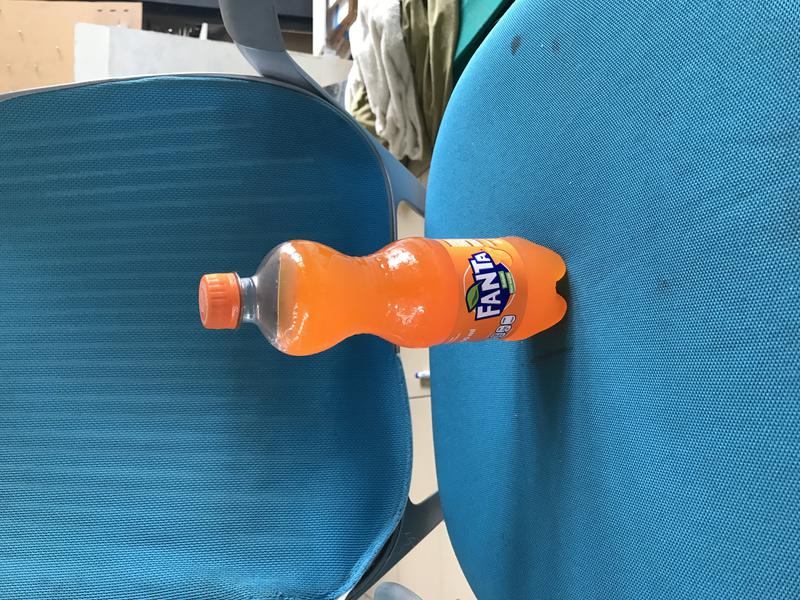fanta: (199, 235, 567, 358)
